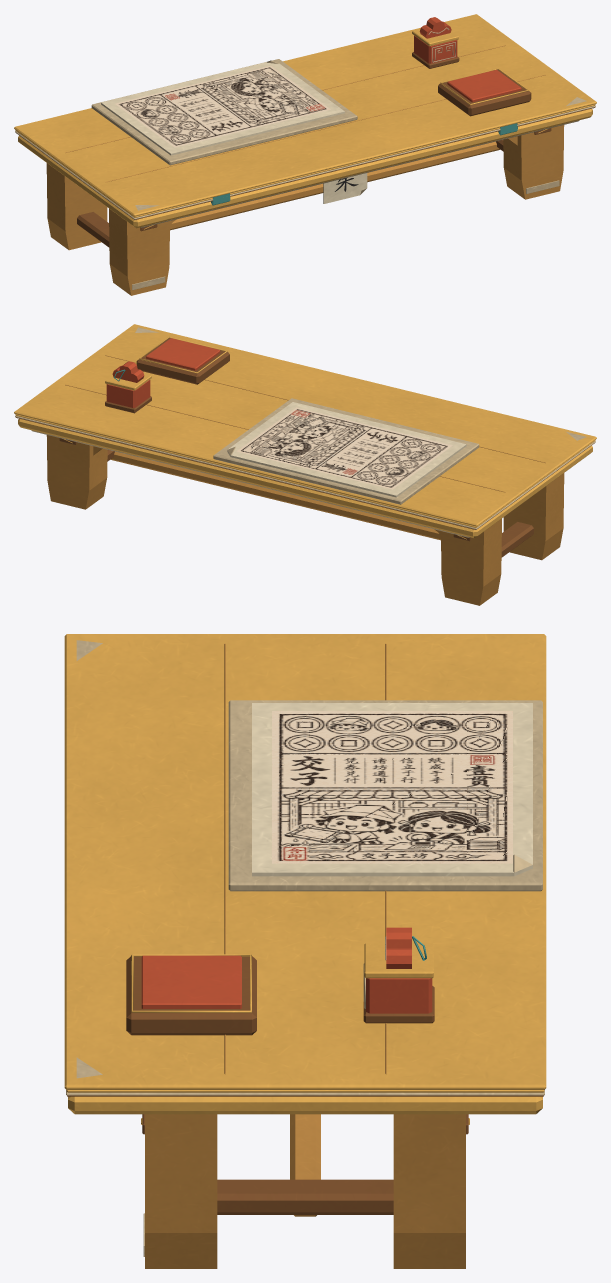
Rendered from station_stamp.glb.
3 renders of one model, top to bottom at view 1: azimuth 30°, elevation 25°; view 2: azimuth 150°, elevation 25°; view 3: azimuth 270°, elevation 25°, orthographic. The views are drawn at different scales.
Parts seen in each view (by area): view 1: station_stamp__tabletop, v01_stamp_red_ticket__paper_red__black_ink_layer, station_stamp__tabletop__core, station_stamp__tapered_leg, station_stamp__tapered_leg.002, v01_stamp_red_ticket__paper_red__paper_body, station_stamp__paper_mat, station_stamp__tapered_leg.001, station_stamp__low_cross_stretcher, v01_stamp_ink_pad__tool_ink_pad__red_cushion, v01_stamp_ink_pad__tool_ink_pad__tray, station_stamp__tabletop__paper_lamination (+8 smaller); view 2: station_stamp__tabletop, v01_stamp_red_ticket__paper_red__black_ink_layer, station_stamp__tabletop__core, station_stamp__tapered_leg.001, station_stamp__tapered_leg.003, v01_stamp_red_ticket__paper_red__paper_body, station_stamp__paper_mat, station_stamp__low_cross_stretcher, station_stamp__tapered_leg, v01_stamp_ink_pad__tool_ink_pad__red_cushion, v01_stamp_ink_pad__tool_ink_pad__tray, station_stamp__tabletop__paper_lamination (+6 smaller); view 3: station_stamp__tabletop, v01_stamp_red_ticket__paper_red__black_ink_layer, v01_stamp_red_ticket__paper_red__paper_body, station_stamp__paper_mat, station_stamp__tapered_leg.002, station_stamp__tapered_leg.003, station_stamp__tabletop__core, station_stamp__stretcher_y.001, v01_stamp_ink_pad__tool_ink_pad__red_cushion, v01_stamp_ink_pad__tool_ink_pad__tray, v01_stamp__tool_stamp__seal_body, station_stamp__low_cross_stretcher (+8 smaller).
Boxes of the visible parts, x1=… form: station_stamp__tabletop: x1=14, y1=14, x2=596, y2=216; v01_stamp_red_ticket__paper_red__black_ink_layer: x1=115, y1=65, x2=330, y2=147; station_stamp__tabletop__core: x1=18, y1=108, x2=592, y2=228; station_stamp__tapered_leg: x1=109, y1=208, x2=169, y2=295; station_stamp__tapered_leg.002: x1=503, y1=125, x2=564, y2=199; v01_stamp_red_ticket__paper_red__paper_body: x1=101, y1=62, x2=344, y2=155; station_stamp__paper_mat: x1=91, y1=59, x2=357, y2=165; station_stamp__tapered_leg.001: x1=46, y1=163, x2=107, y2=250; station_stamp__low_cross_stretcher: x1=170, y1=141, x2=500, y2=230; v01_stamp_ink_pad__tool_ink_pad__red_cushion: x1=447, y1=69, x2=521, y2=102; v01_stamp_ink_pad__tool_ink_pad__tray: x1=438, y1=69, x2=531, y2=116; station_stamp__tabletop__paper_lamination: x1=15, y1=105, x2=595, y2=219; station_stamp__tabletop: x1=14, y1=324, x2=596, y2=526; v01_stamp_red_ticket__paper_red__black_ink_layer: x1=236, y1=407, x2=452, y2=489; station_stamp__tabletop__core: x1=18, y1=418, x2=592, y2=538; station_stamp__tapered_leg.001: x1=441, y1=518, x2=501, y2=605; station_stamp__tapered_leg.003: x1=46, y1=435, x2=107, y2=509; v01_stamp_red_ticket__paper_red__paper_body: x1=227, y1=402, x2=466, y2=497; station_stamp__paper_mat: x1=213, y1=398, x2=479, y2=504; station_stamp__low_cross_stretcher: x1=110, y1=451, x2=440, y2=540; station_stamp__tapered_leg: x1=503, y1=473, x2=564, y2=560; v01_stamp_ink_pad__tool_ink_pad__red_cushion: x1=146, y1=338, x2=220, y2=370; v01_stamp_ink_pad__tool_ink_pad__tray: x1=136, y1=338, x2=229, y2=384; station_stamp__tabletop__paper_lamination: x1=15, y1=415, x2=595, y2=529; station_stamp__tabletop: x1=64, y1=634, x2=546, y2=1089; v01_stamp_red_ticket__paper_red__black_ink_layer: x1=272, y1=711, x2=512, y2=863; v01_stamp_red_ticket__paper_red__paper_body: x1=252, y1=703, x2=532, y2=876; station_stamp__paper_mat: x1=228, y1=700, x2=542, y2=891; station_stamp__tapered_leg.002: x1=145, y1=1114, x2=217, y2=1268; station_stamp__tapered_leg.003: x1=393, y1=1114, x2=465, y2=1268; station_stamp__tabletop__core: x1=68, y1=1096, x2=542, y2=1114; station_stamp__stretcher_y.001: x1=217, y1=1179, x2=393, y2=1214; v01_stamp_ink_pad__tool_ink_pad__red_cushion: x1=141, y1=955, x2=241, y2=1008; v01_stamp_ink_pad__tool_ink_pad__tray: x1=126, y1=956, x2=256, y2=1035; v01_stamp__tool_stamp__seal_body: x1=366, y1=978, x2=432, y2=1013; station_stamp__low_cross_stretcher: x1=290, y1=1114, x2=320, y2=1216.
Bounding box in the file's own units: 1.6 × 0.4605 × 0.72.
18 materials, 17 textured.
